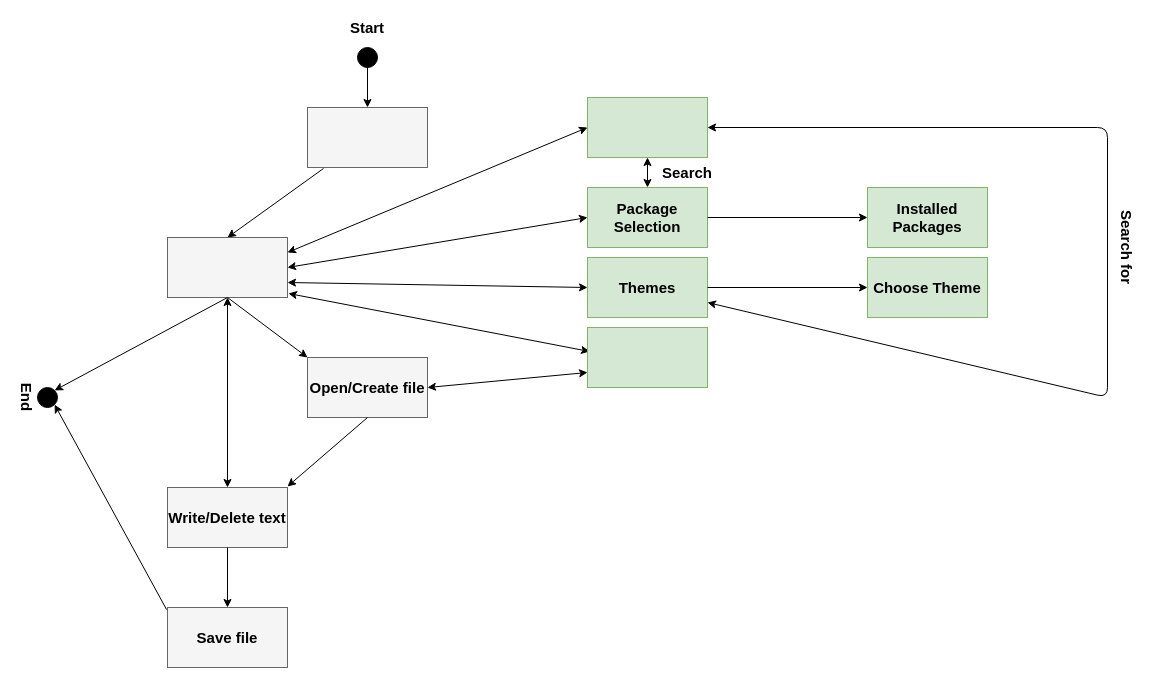
Image size: 1154x685. Some labels were removed from this diagram. The centre of each missing label's shape, as x and y in pixels:
GUI: point (227, 267)
Install: point (647, 127)
Settings: point (647, 357)
Starting Atom: point (367, 137)
